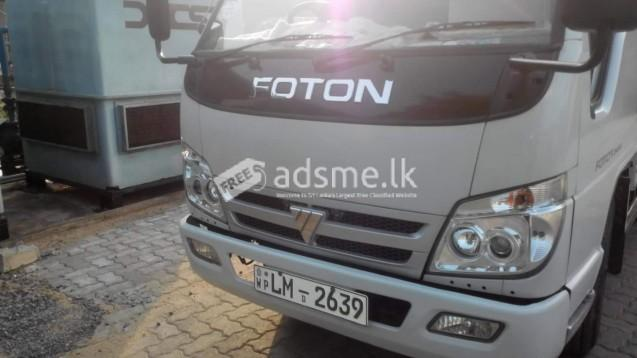truck: (144, 1, 637, 358)
